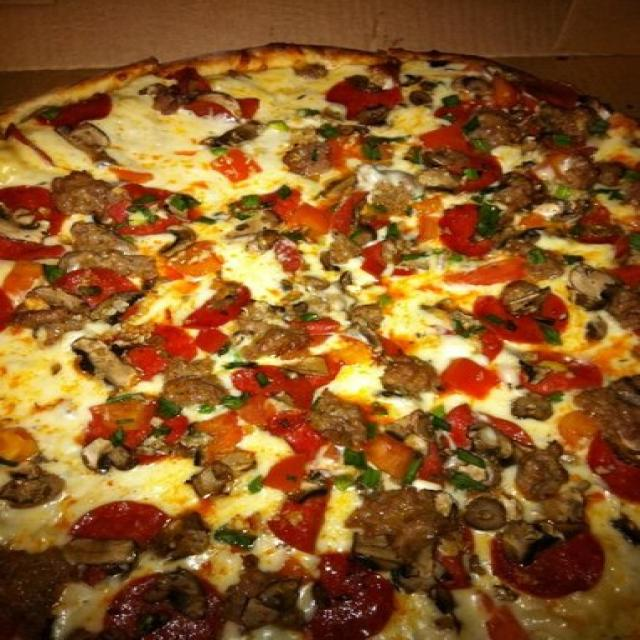Beef: (347, 488, 454, 562), (0, 545, 70, 638), (56, 247, 152, 287), (314, 392, 372, 451), (376, 352, 456, 394), (51, 169, 126, 211), (165, 375, 231, 417), (585, 384, 638, 433), (571, 390, 640, 425), (499, 396, 579, 425), (553, 156, 621, 190), (75, 218, 140, 252), (473, 108, 532, 144), (468, 110, 521, 150), (540, 101, 594, 140), (521, 449, 569, 492), (244, 327, 306, 359), (7, 472, 57, 507), (388, 360, 438, 395), (496, 174, 542, 211), (148, 90, 206, 118), (282, 141, 336, 171), (174, 360, 217, 384), (322, 232, 353, 263), (350, 308, 390, 327)
Mushrooms: (48, 536, 152, 583), (360, 534, 448, 588), (49, 119, 133, 171), (72, 333, 146, 391), (148, 564, 220, 621), (242, 579, 341, 620), (180, 441, 242, 504), (144, 518, 218, 556), (1, 208, 61, 251), (484, 172, 542, 214), (459, 496, 516, 538), (498, 281, 555, 319), (83, 440, 138, 474), (574, 264, 620, 304), (471, 421, 512, 462), (452, 62, 494, 98), (90, 290, 136, 318), (202, 88, 240, 115)
Pepperoni: (298, 549, 397, 640), (118, 571, 240, 640), (493, 527, 609, 595), (225, 362, 319, 438), (321, 76, 420, 130), (111, 322, 206, 378), (473, 292, 568, 346), (82, 496, 176, 550), (581, 426, 640, 504), (270, 484, 332, 548), (435, 204, 500, 260), (523, 354, 609, 395), (184, 284, 251, 327), (437, 154, 512, 188), (43, 109, 122, 124)
Pizza: (0, 45, 640, 640)
Red Pepper: (268, 189, 359, 231), (5, 184, 68, 232), (281, 490, 326, 551), (0, 260, 44, 318), (66, 268, 136, 300), (365, 435, 407, 488), (282, 410, 322, 458), (450, 353, 488, 401), (3, 232, 61, 261), (208, 142, 252, 180), (118, 170, 175, 198), (422, 128, 482, 154), (137, 222, 193, 234), (106, 202, 122, 225)
